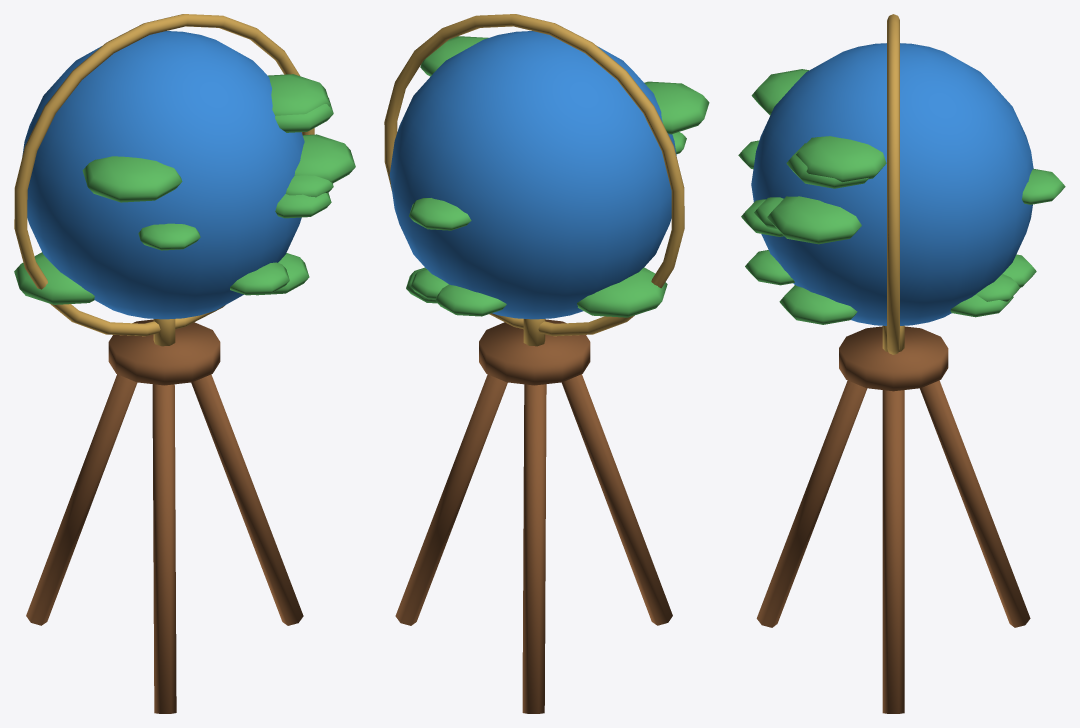
Rendered from globe.glb.
3 renders of one model, left to right at view 1: azimuth 30°, elevation 25°; view 2: azimuth 150°, elevation 25°; view 3: azimuth 270°, elevation 25°, orthographic.
Visible parts, largest first — view 1: globe; view 2: globe; view 3: globe.
Part boxes in pixels (x1=…): globe: x1=14, y1=14, x2=355, y2=713; globe: x1=384, y1=14, x2=709, y2=713; globe: x1=738, y1=14, x2=1065, y2=713.
Bounding box in the file's own units: 0.6192 × 1.26 × 0.598.
